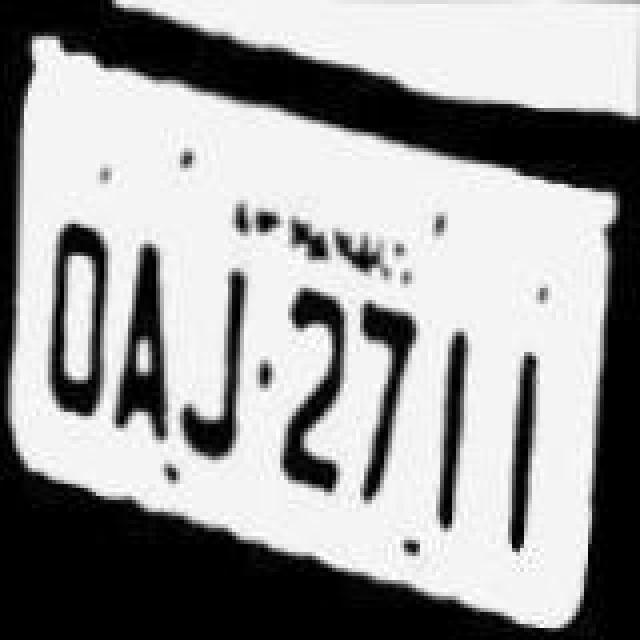1: (500, 316, 556, 580), (432, 296, 488, 544)
2: (276, 274, 356, 538)
7: (352, 294, 424, 538)
A: (110, 202, 182, 454)
J: (176, 228, 260, 468)
O: (34, 188, 114, 444)
